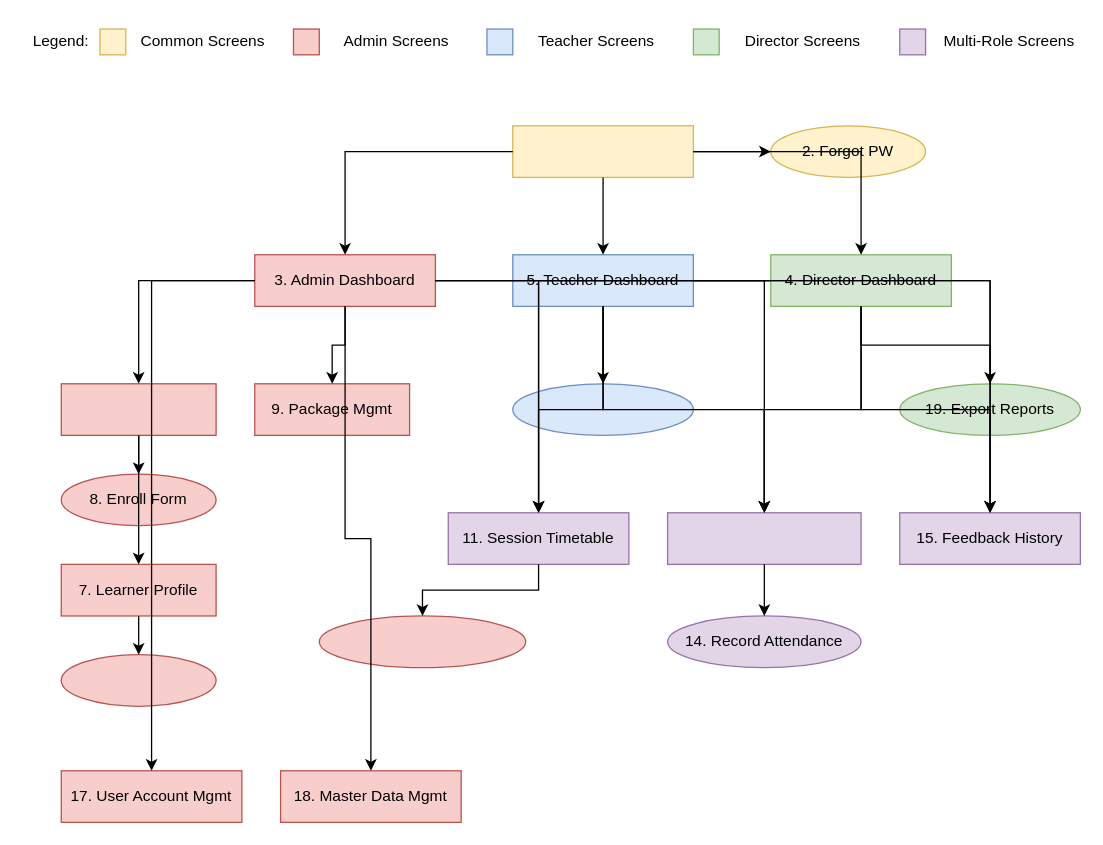
Image size: 1103x845. Some labels were removed from this diagram. Here are the shapes that lost their labels. From the top down, the box of each, then its label:
(511, 124, 693, 177): 1. Login Page
(60, 382, 216, 435): 6. Learner List
(511, 382, 693, 435): 16. Submit Feedback
(666, 511, 861, 564): 13. Attendance Tracking
(318, 615, 526, 668): 12. Create/Update Session
(60, 653, 216, 706): 10. Assign Package
